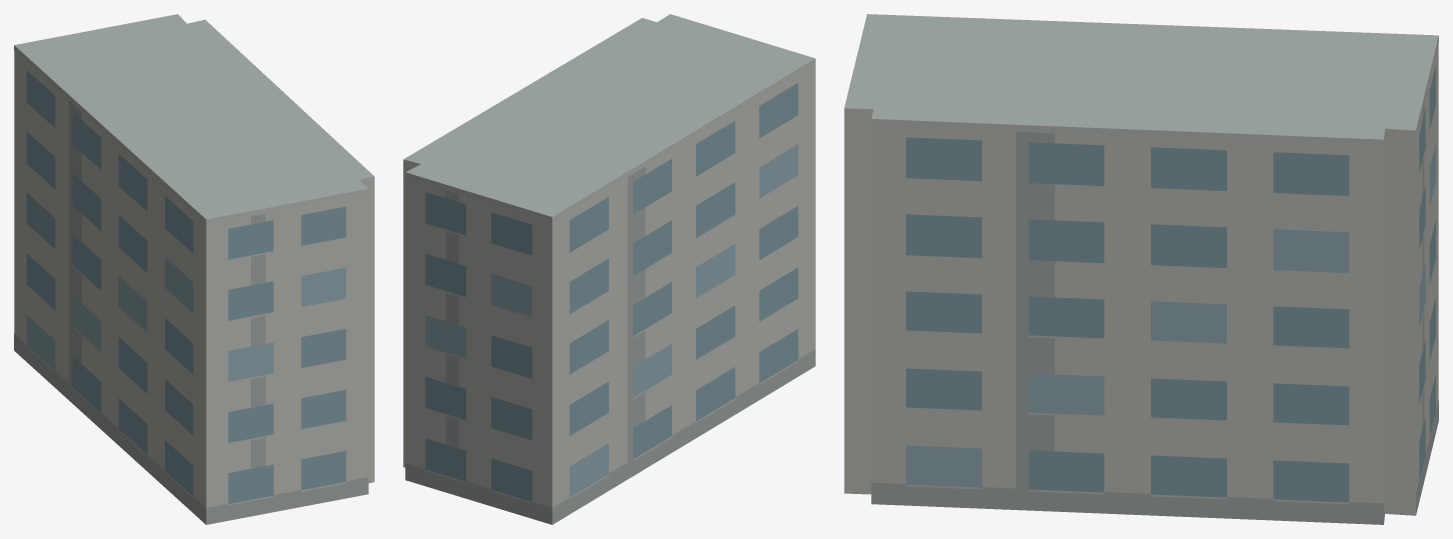
Rendered from survey-upis-32567202.glb.
The picture shows the model from 3 angles, left to right: view 1: azimuth 30°, elevation 25°; view 2: azimuth 150°, elevation 25°; view 3: azimuth 270°, elevation 25°; orthographic projection. The views are drawn at different scales.
Visible parts, largest first — view 1: survey-upis-32567202.tmp; view 2: survey-upis-32567202.tmp; view 3: survey-upis-32567202.tmp.
Part boxes in pixels (bbox=[...]): survey-upis-32567202.tmp: bbox=[14, 14, 374, 524]; survey-upis-32567202.tmp: bbox=[403, 14, 815, 524]; survey-upis-32567202.tmp: bbox=[844, 14, 1438, 524].
Bounding box in the file's own units: 9.1 × 13 × 18.2.
